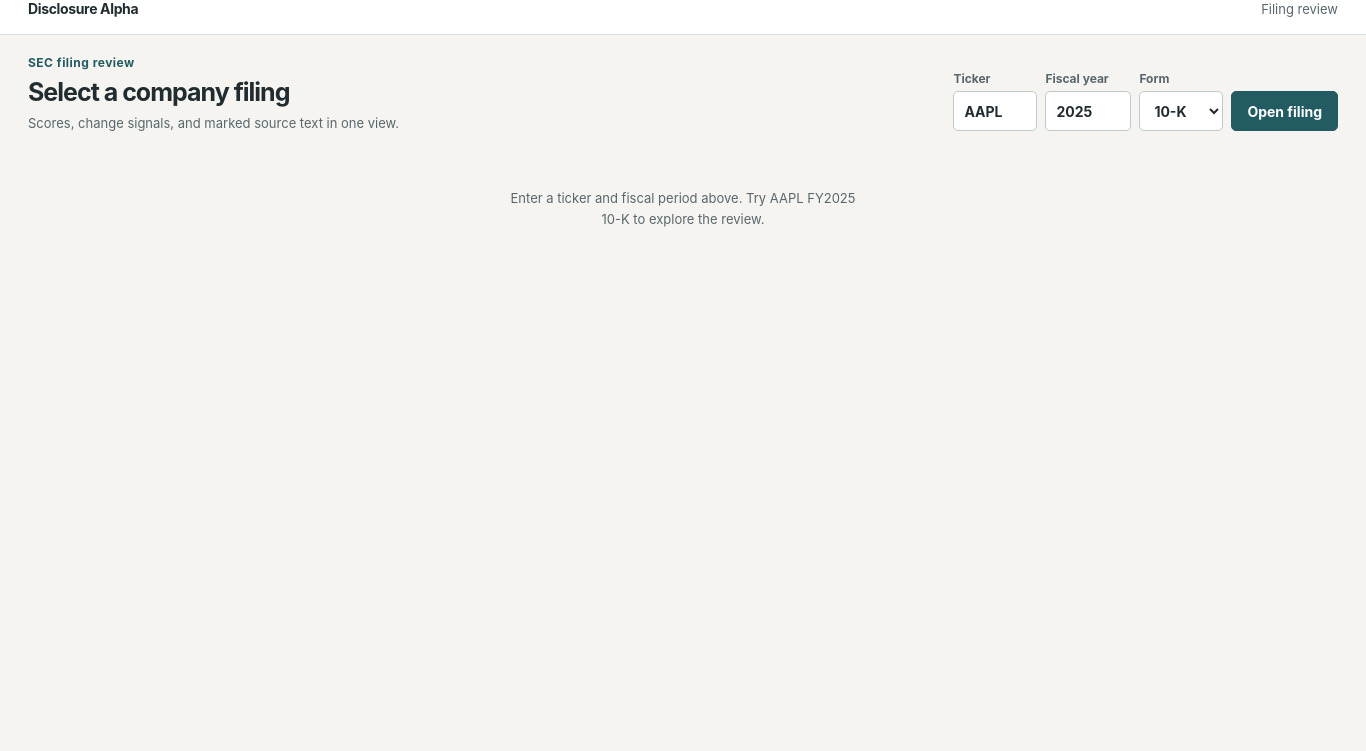
Scenario: filing review › shows section counts, including zero, and opens sections from the rail
This screenshot has width=1366, height=751.
Click the button "Open filing": (1285, 111) [1231, 91, 1338, 131]
(page scrolled)
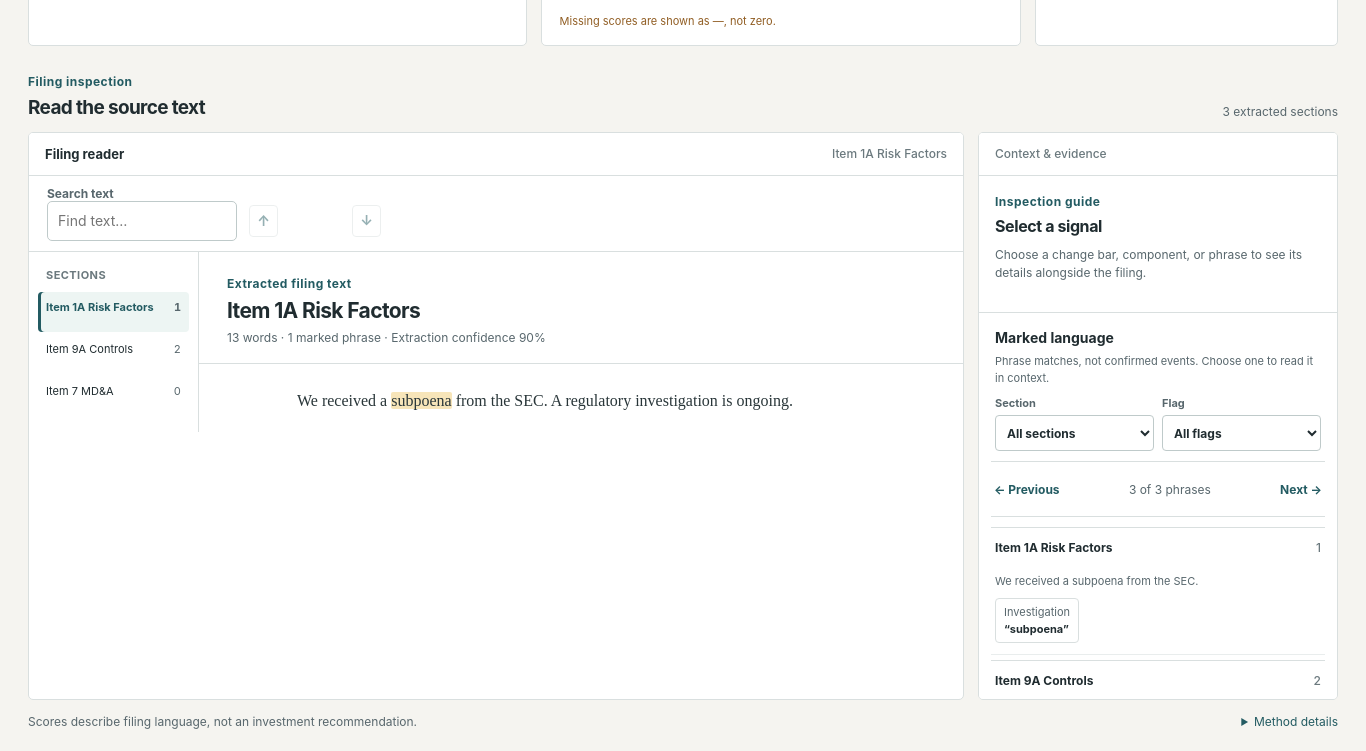
Result: the heading "Marked language" is shown at [995, 329, 1114, 346]
Result: the button "Item 1A Risk Factors 1" is shown at [38, 292, 189, 332]
Click the button "Item 7 MD&A 0": (114, 396) [38, 376, 189, 416]
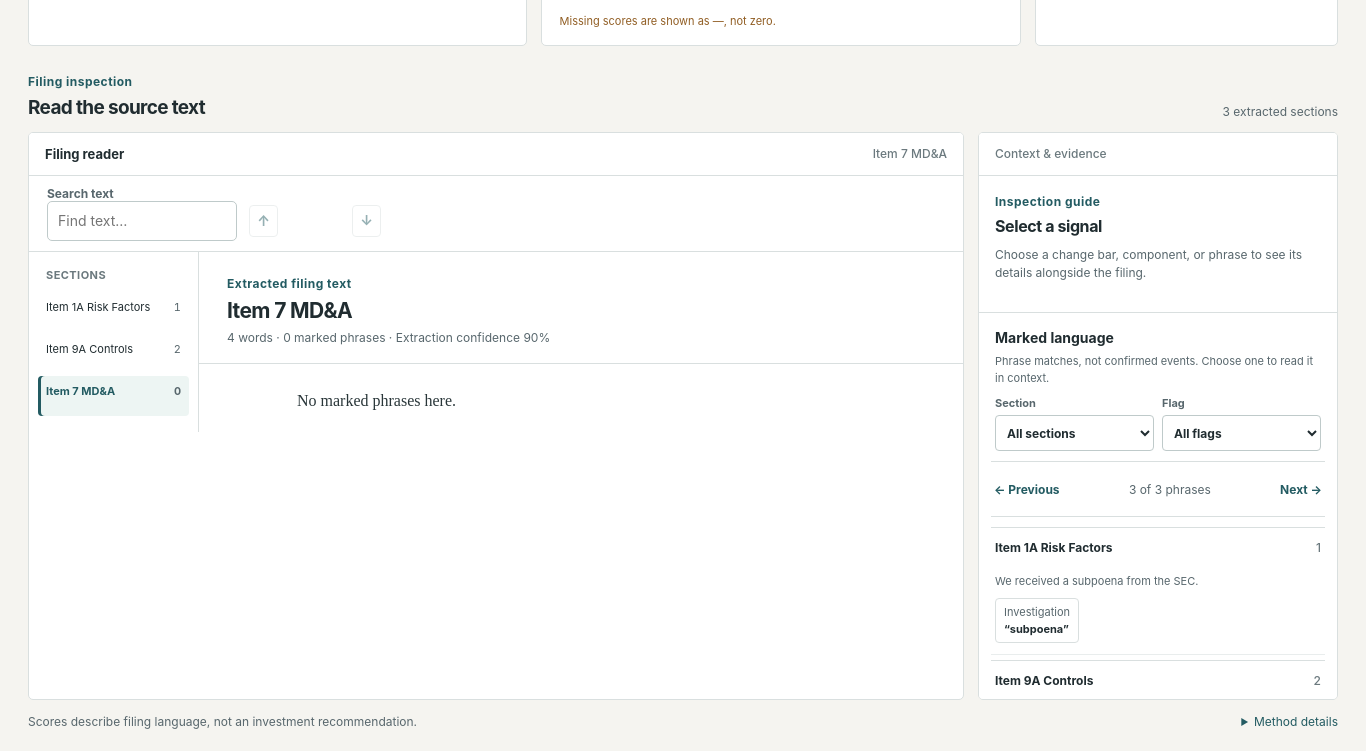
Result: the element named "Item 7 MD&A filing text" reads "No marked phrases here." at [297, 392, 456, 408]
